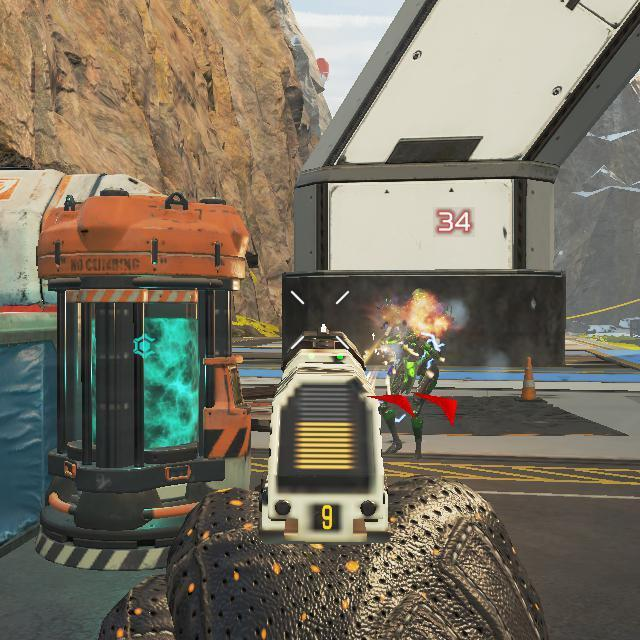avatar: (377, 317, 441, 461)
